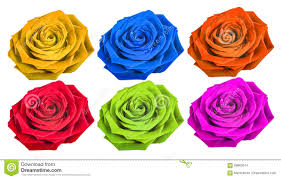lale: (186, 0, 279, 84), (94, 80, 190, 160), (183, 75, 278, 151), (97, 2, 185, 83), (6, 83, 96, 160), (4, 10, 100, 78)
